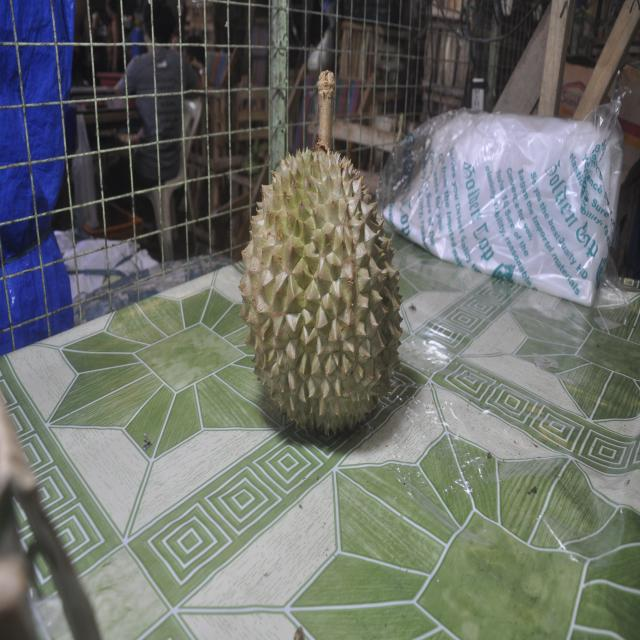mature: (239, 71, 403, 436)
